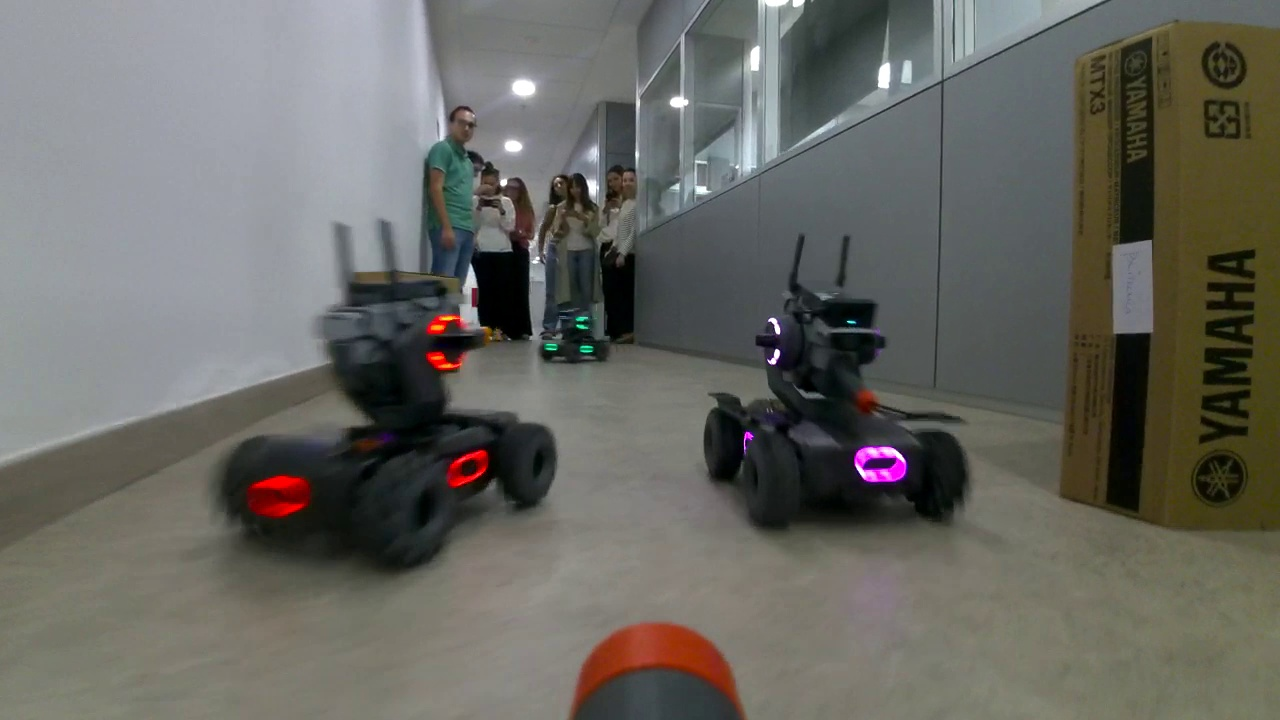robot: (212, 268, 557, 573), (702, 282, 975, 536), (537, 307, 612, 362)
